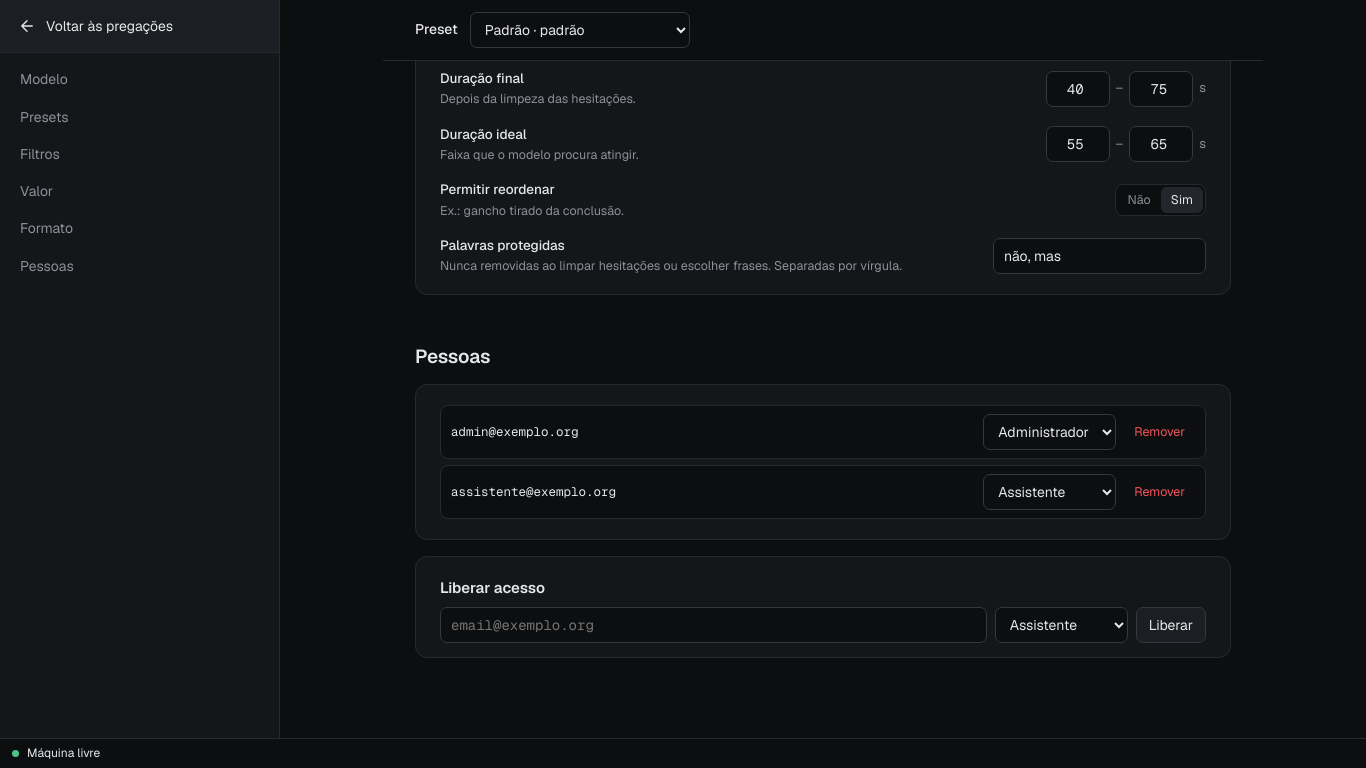
Test: changes a role by the e-mail in the body, and says Salvo
(page scrolled)
expect the navigation bar named "Seções das configurações" is shown: met, box [0,0,280,738]
expect the dropdown named "Papel de admin@exemplo.org" is shown: met, box [983,414,1116,450]
Select "Administrador" in the dropdown named "Papel de assistente@exemplo.org" at (1050, 492), box [983,474,1116,510]
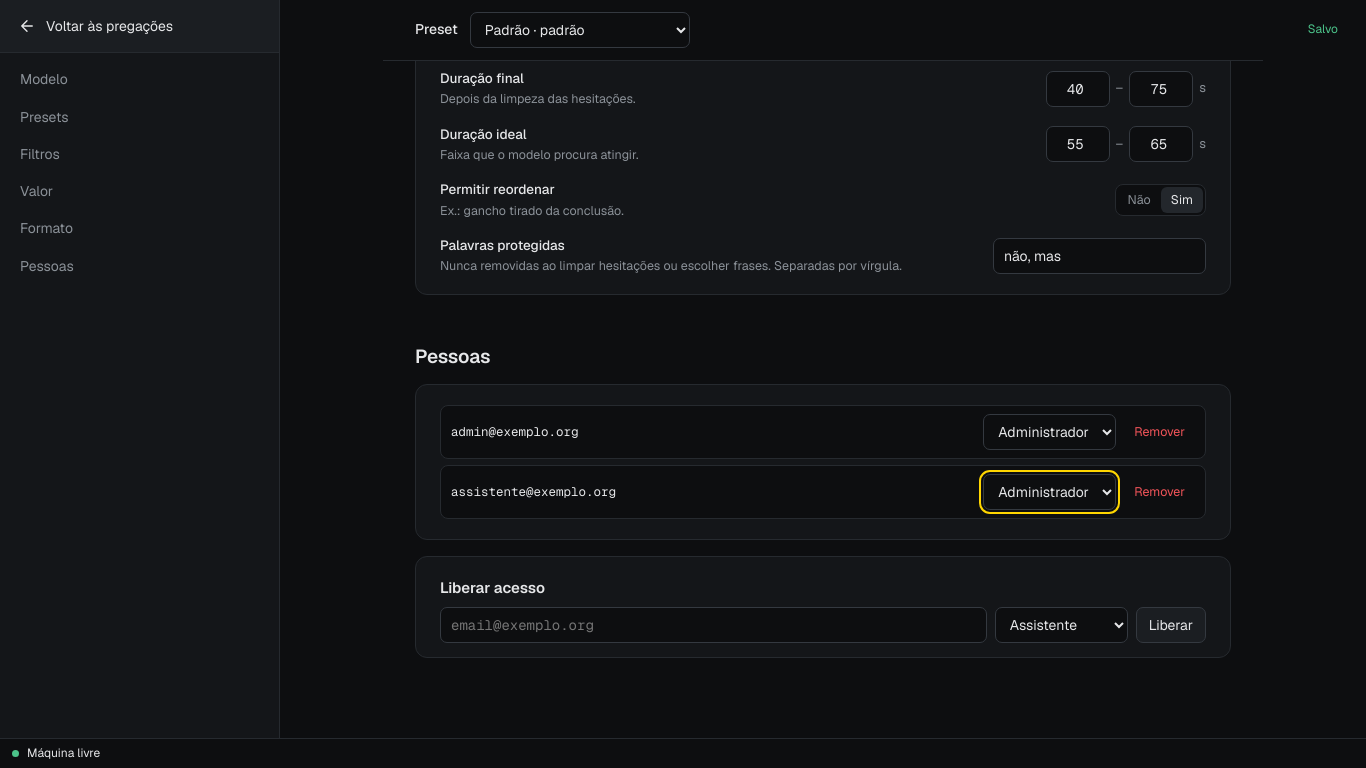
expect the text "Salvo" is shown: met, box [1308,21,1338,37]
